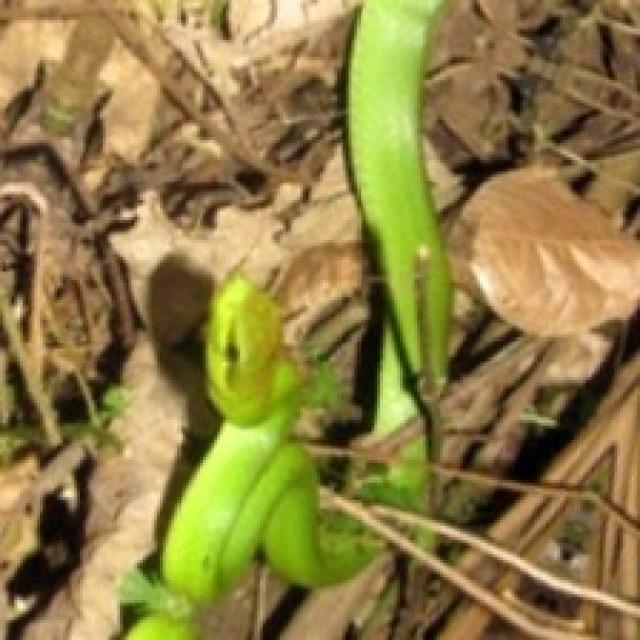red-tailed green ratsnake: (126, 274, 369, 637), (349, 0, 452, 437), (388, 432, 430, 508)
